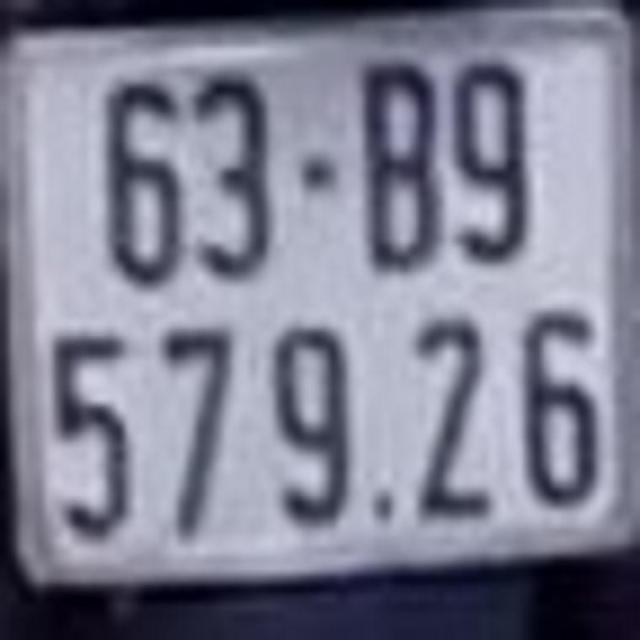2: (407, 317, 492, 520)
3: (193, 79, 271, 283)
5: (50, 328, 134, 541)
6: (522, 308, 608, 508), (101, 89, 187, 287)
7: (162, 322, 233, 540)
9: (268, 318, 353, 528), (450, 53, 529, 270)
B: (360, 56, 449, 283)
